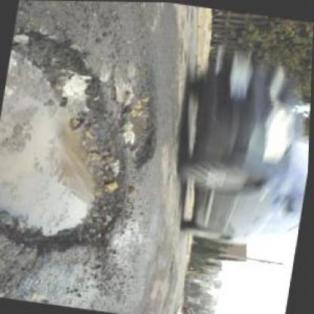Hueco: (0, 22, 157, 266), (111, 64, 171, 171)
